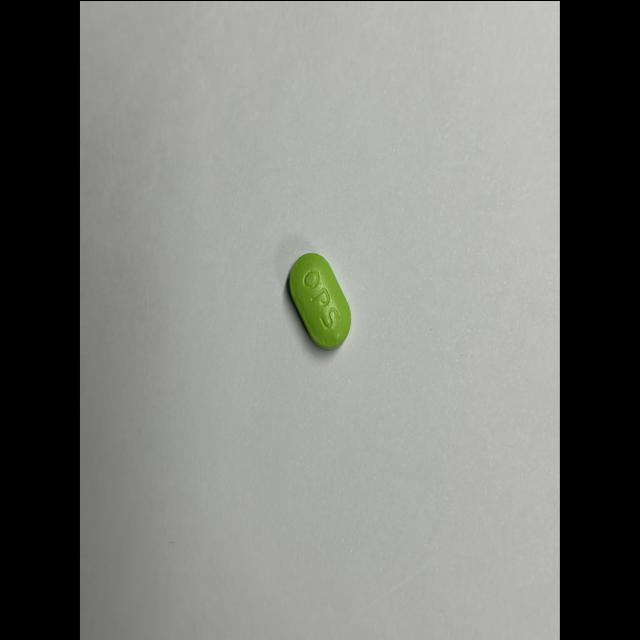Piller: (289, 252, 351, 348)
